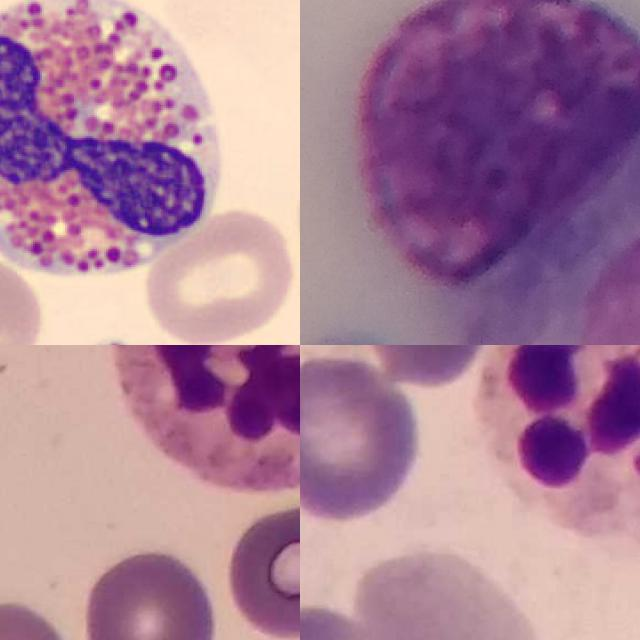Basophil: (351, 0, 640, 298)
Eosinophil: (0, 0, 230, 296)
Lymphocyte: (477, 87, 640, 345)
Neutrophil: (479, 345, 640, 547), (115, 345, 300, 490)
Platelets: (86, 332, 137, 345)
RBC: (139, 205, 300, 345), (0, 250, 49, 345)
